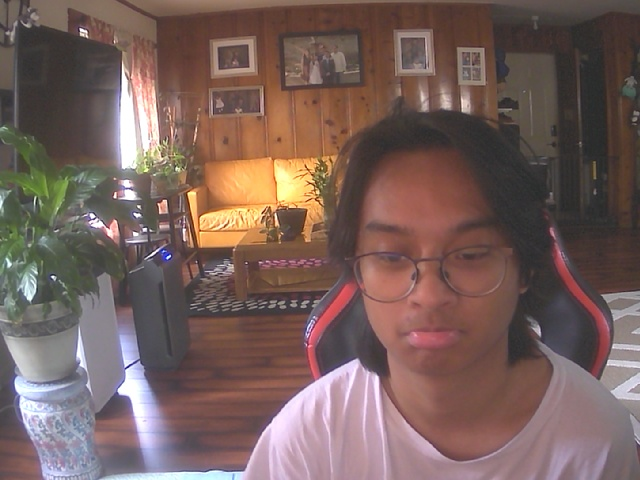sad: (344, 130, 535, 379)
